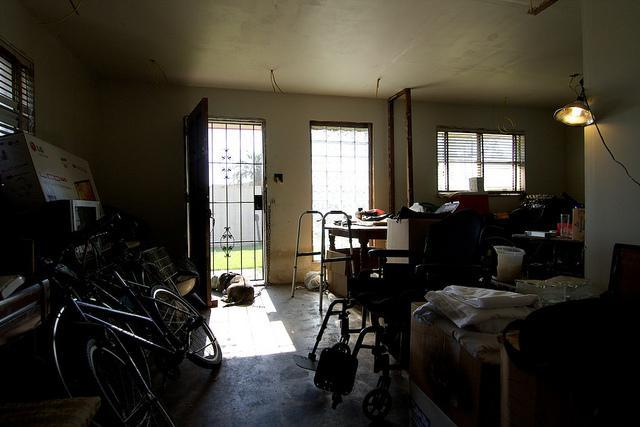tv: (47, 196, 101, 243)
